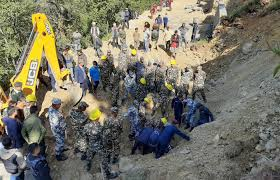helmet: (86, 105, 100, 120), (138, 77, 147, 85), (159, 115, 166, 124), (130, 48, 137, 56), (165, 83, 173, 90), (172, 59, 177, 67), (101, 55, 104, 59)
